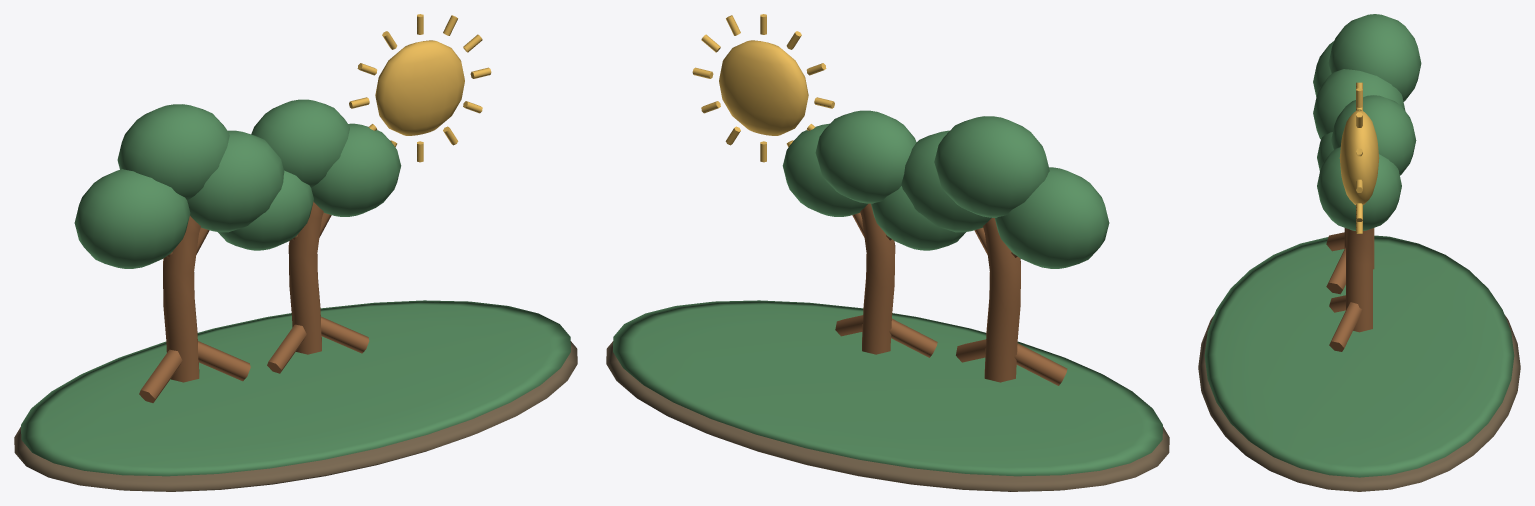
Rendered from forest-dream.glb.
The picture shows the model from 3 angles, left to right: view 1: azimuth 30°, elevation 25°; view 2: azimuth 150°, elevation 25°; view 3: azimuth 270°, elevation 25°; orthographic projection. The views are drawn at different scales.
Visible parts, largest first — view 1: forest-dream_surface_01, forest-dream_surface_02, forest-dream_surface_00, forest-dream_surface_03; view 2: forest-dream_surface_01, forest-dream_surface_02, forest-dream_surface_00, forest-dream_surface_03; view 3: forest-dream_surface_01, forest-dream_surface_00, forest-dream_surface_02, forest-dream_surface_03.
Boxes of the visible parts, box(x1,y1,x2,y2) form: forest-dream_surface_01: box(21, 99, 570, 476); forest-dream_surface_02: box(139, 201, 369, 402); forest-dream_surface_00: box(14, 341, 577, 491); forest-dream_surface_03: box(349, 14, 491, 162); forest-dream_surface_01: box(613, 110, 1162, 476); forest-dream_surface_02: box(835, 203, 1067, 385); forest-dream_surface_00: box(606, 341, 1169, 491); forest-dream_surface_03: box(692, 14, 834, 162); forest-dream_surface_01: box(1204, 14, 1514, 477); forest-dream_surface_00: box(1198, 315, 1520, 491); forest-dream_surface_02: box(1326, 228, 1374, 351); forest-dream_surface_03: box(1339, 82, 1379, 233).
Size of the model in its own units: 4.56 by 3 by 2.5.
